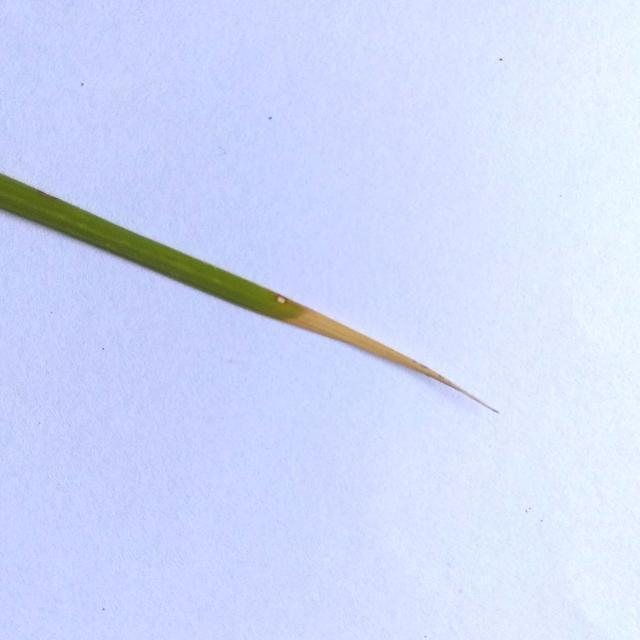Blast: (274, 290, 292, 313)
